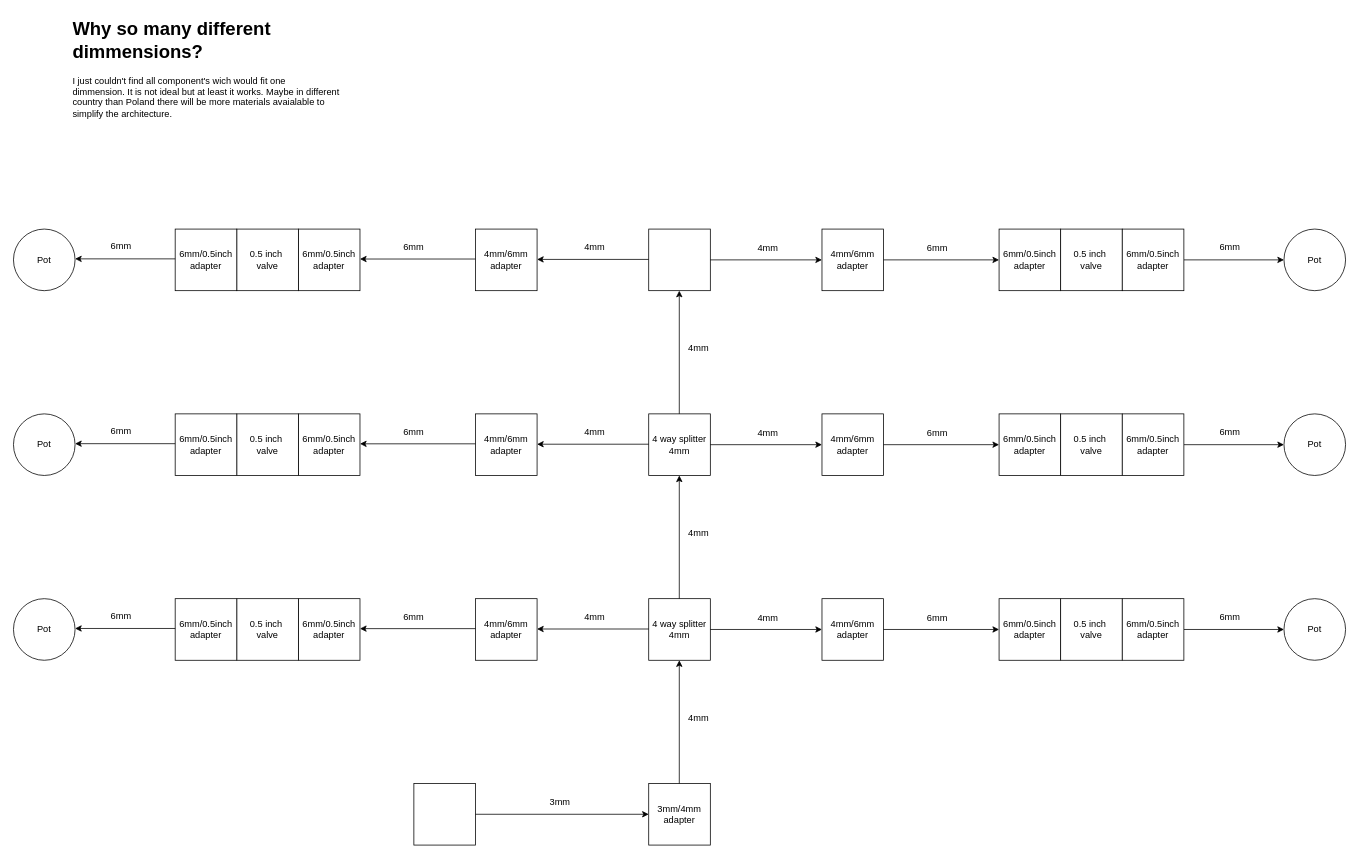
Image size: 1359x859. Some labels were removed from this diagram. The shapes that lost their labels are listed below. From the top down, each one's centre as x and y in pixels, then its label:
point (679, 259): 3 way splitter 4mm
point (444, 814): Pump 3mm
